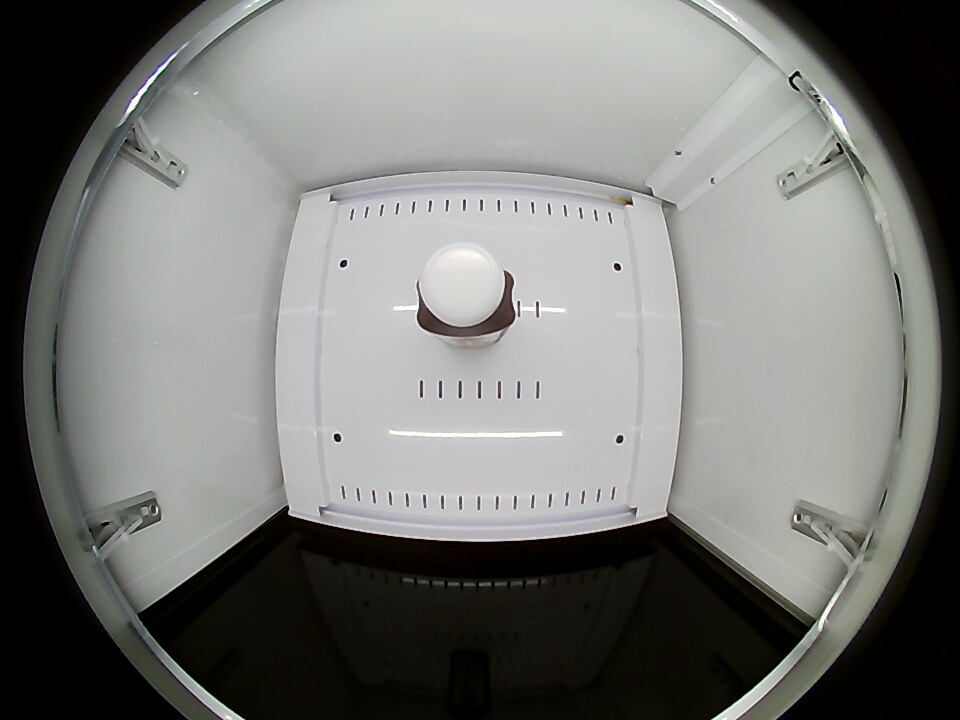youyanggudong: (416, 243, 517, 345)
